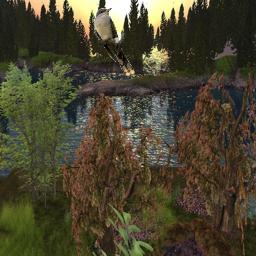Cuckoo: (94, 8, 135, 76)
